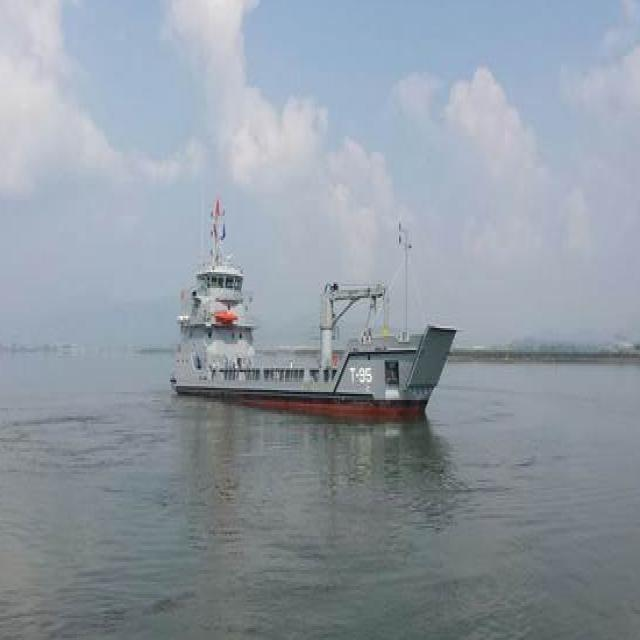passenger ship: (171, 221, 449, 403)
